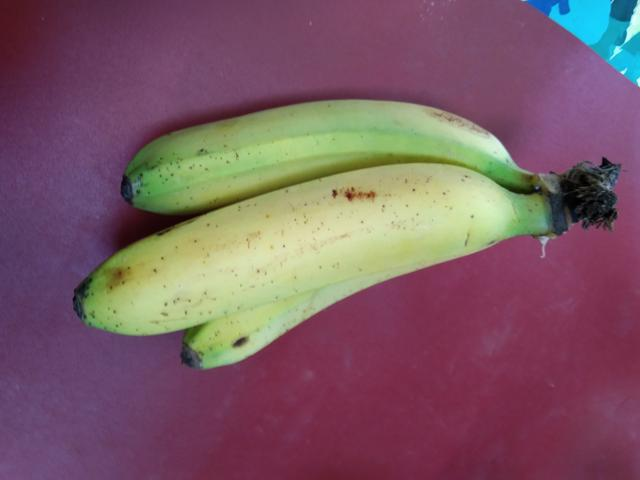freshripe: (109, 89, 496, 205)
ripe: (68, 167, 515, 335)
